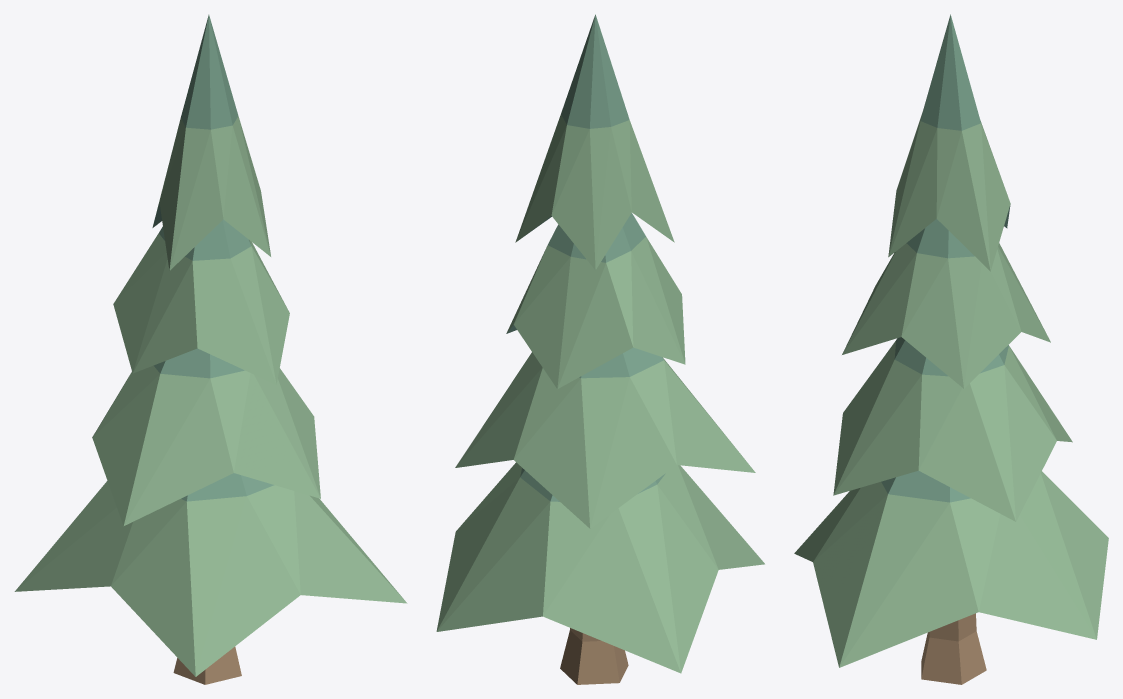
File: pine.glb
3 renders of one model, left to right at view 1: azimuth 30°, elevation 25°; view 2: azimuth 150°, elevation 25°; view 3: azimuth 270°, elevation 25°, orthographic.
Parts seen in each view (by area): view 1: tree_pine; view 2: tree_pine; view 3: tree_pine.
Part boxes in pixels (bbox=[...]): tree_pine: bbox=[14, 14, 407, 684]; tree_pine: bbox=[436, 14, 764, 684]; tree_pine: bbox=[794, 14, 1108, 684].
Bounding box in the file's own units: 0.4514 × 1 × 0.4346.
